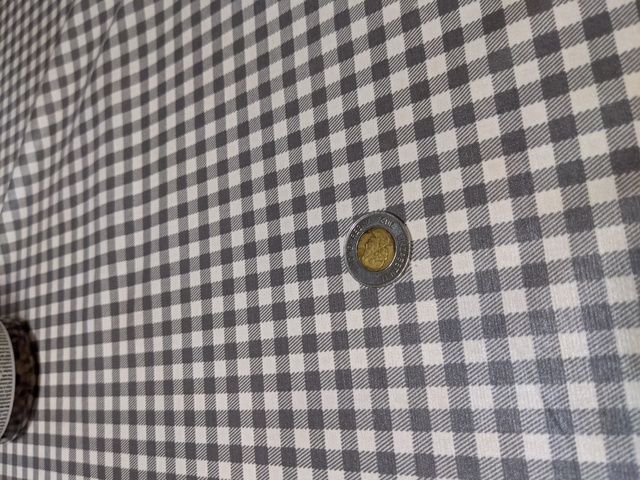twonie: (333, 206, 416, 296)
